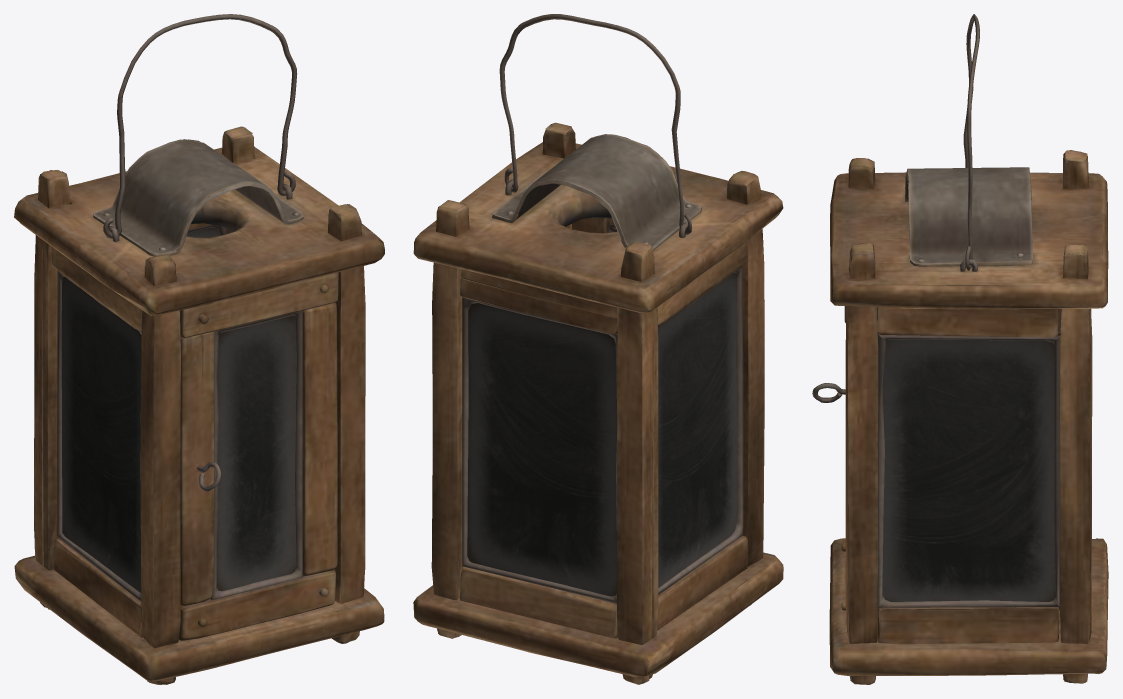
The model's file is wooden_lantern_01.glb.
3 renders of one model, left to right at view 1: azimuth 30°, elevation 25°; view 2: azimuth 150°, elevation 25°; view 3: azimuth 270°, elevation 25°, orthographic.
Visible parts, largest first — view 1: wooden_lantern_01, wooden_lantern_01_door, wooden_lantern_01_handle; view 2: wooden_lantern_01, wooden_lantern_01_handle, wooden_lantern_01_door; view 3: wooden_lantern_01, wooden_lantern_01_handle, wooden_lantern_01_door.
Part boxes in pixels (<box>): wooden_lantern_01: <box>14,126,384,684</box>; wooden_lantern_01_door: <box>179,272,338,640</box>; wooden_lantern_01_handle: <box>103,14,297,238</box>; wooden_lantern_01: <box>413,122,783,684</box>; wooden_lantern_01_handle: <box>499,14,691,234</box>; wooden_lantern_01_door: <box>572,217,616,232</box>; wooden_lantern_01: <box>829,150,1108,684</box>; wooden_lantern_01_handle: <box>963,14,979,270</box>; wooden_lantern_01_door: <box>812,306,846,624</box>.
Bounding box in the file's own units: 0.221 × 0.5301 × 0.2348.
Materials: 2 (2 with a texture image).
